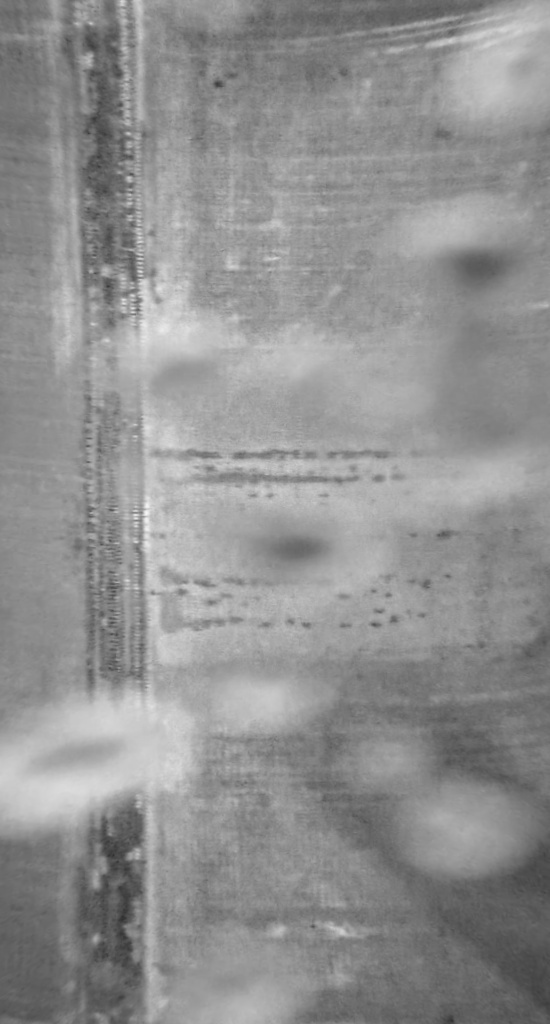splice: (63, 1, 160, 1021)
